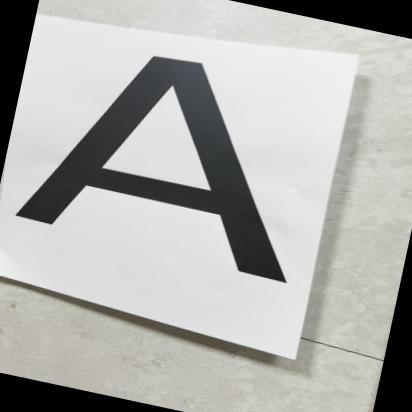seat: (0, 17, 332, 299)
